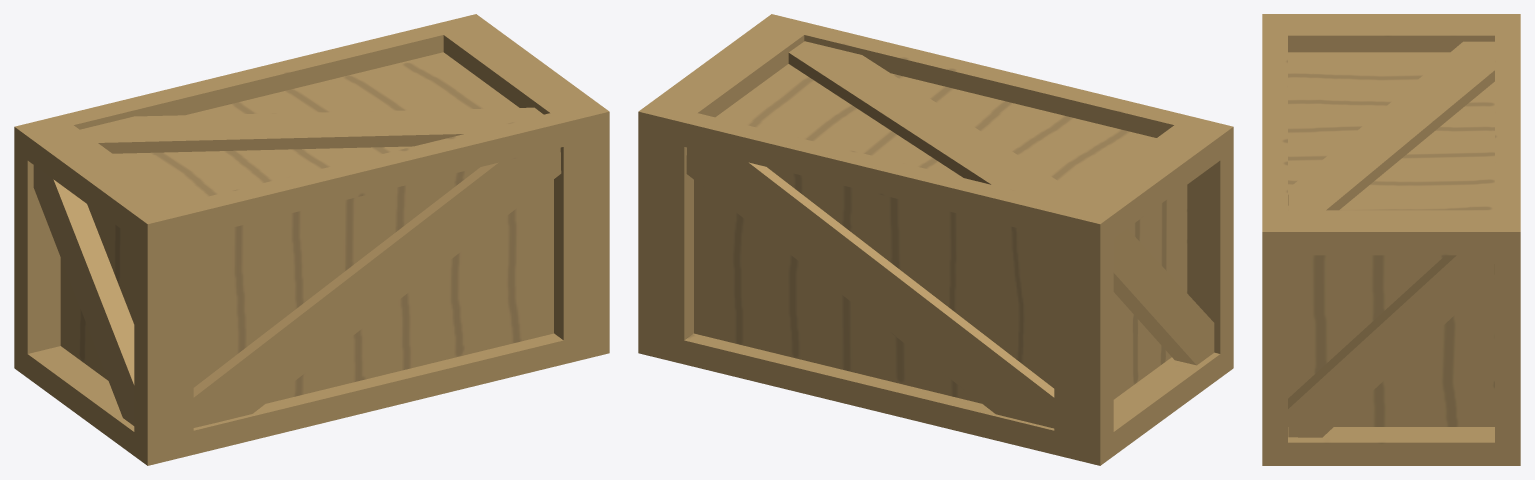
File: BigCrate.fbx
3 views of the same model, side by side, from view 1: azimuth 30°, elevation 25°; view 2: azimuth 150°, elevation 25°; view 3: azimuth 270°, elevation 25° (orthographic). The views are drawn at different scales.
Visible parts, largest first — view 1: Cube.001; view 2: Cube.001; view 3: Cube.001.
Part boxes in pixels (box(x1,y1,x2,y2)): Cube.001: box(14, 14, 609, 465); Cube.001: box(638, 14, 1233, 465); Cube.001: box(1262, 14, 1520, 465).
Size of the model in its own units: 400 by 200 by 200.
1 material, 1 textured.
